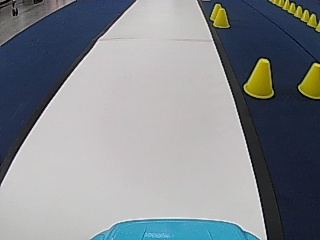cone: (244, 56, 275, 98), (298, 62, 320, 98), (213, 7, 230, 28), (209, 3, 223, 20), (307, 13, 317, 26), (301, 10, 309, 21), (294, 6, 302, 17), (288, 2, 295, 13), (282, 0, 289, 10)
